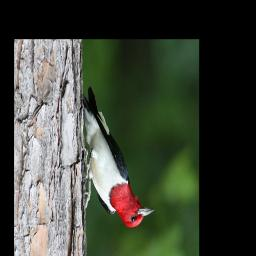Woodpecker: (79, 87, 157, 228)
